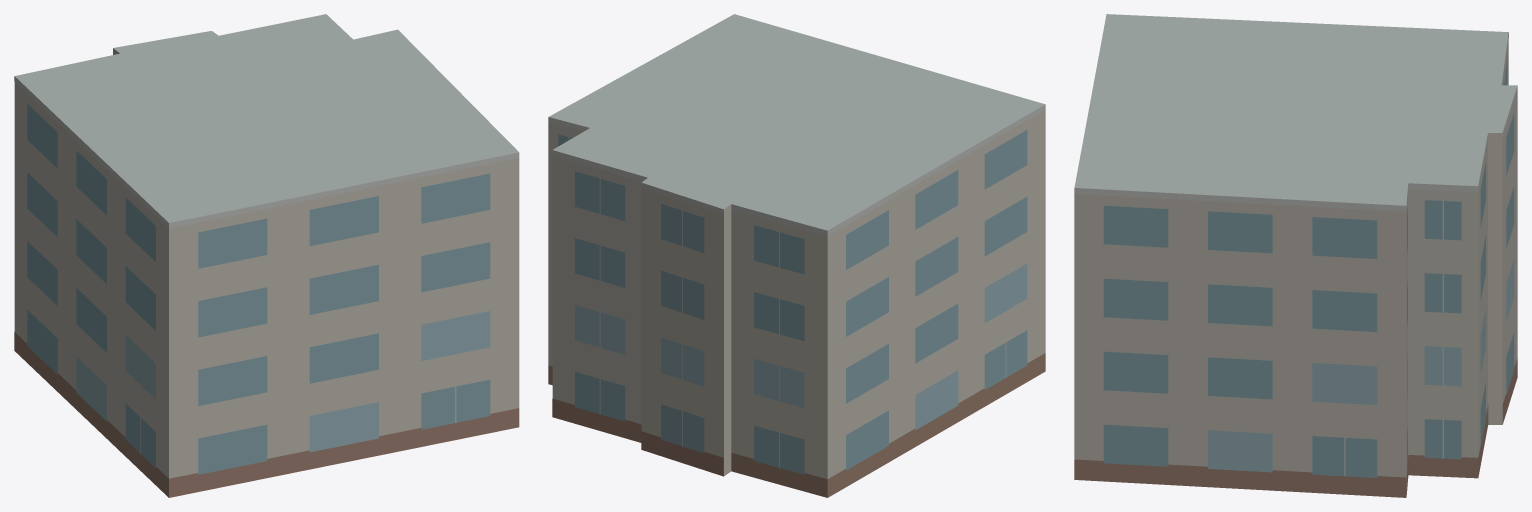
Rendered from survey-upis-32819422.glb.
3 renders of one model, left to right at view 1: azimuth 30°, elevation 25°; view 2: azimuth 150°, elevation 25°; view 3: azimuth 270°, elevation 25°, orthographic. The views are drawn at different scales.
Visible parts, largest first — view 1: survey-upis-32819422.tmp; view 2: survey-upis-32819422.tmp; view 3: survey-upis-32819422.tmp.
Part boxes in pixels (box(x1,y1,x2,y2)): survey-upis-32819422.tmp: box(14, 14, 519, 497); survey-upis-32819422.tmp: box(548, 14, 1045, 497); survey-upis-32819422.tmp: box(1074, 14, 1517, 497).
Size of the model in its own units: 16.94 by 12.01 by 16.53.
